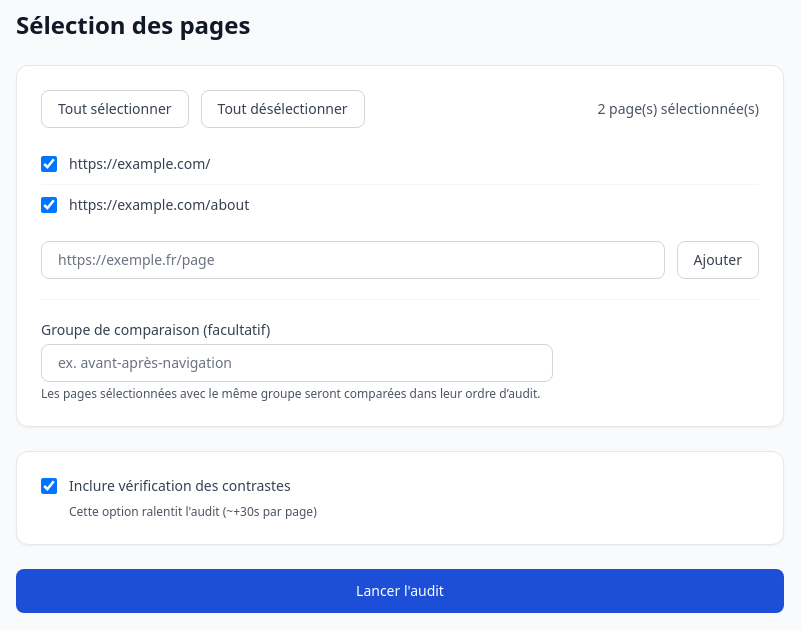
PageSelection › "Tout sélectionner" coche toutes les checkboxes URL
This screenshot has width=801, height=630.
Note: Deselect all first to ensure a clean state
Click the button "Tout désélectionner": {"x": 283, "y": 109} x1=201 y1=90 x2=365 y2=128
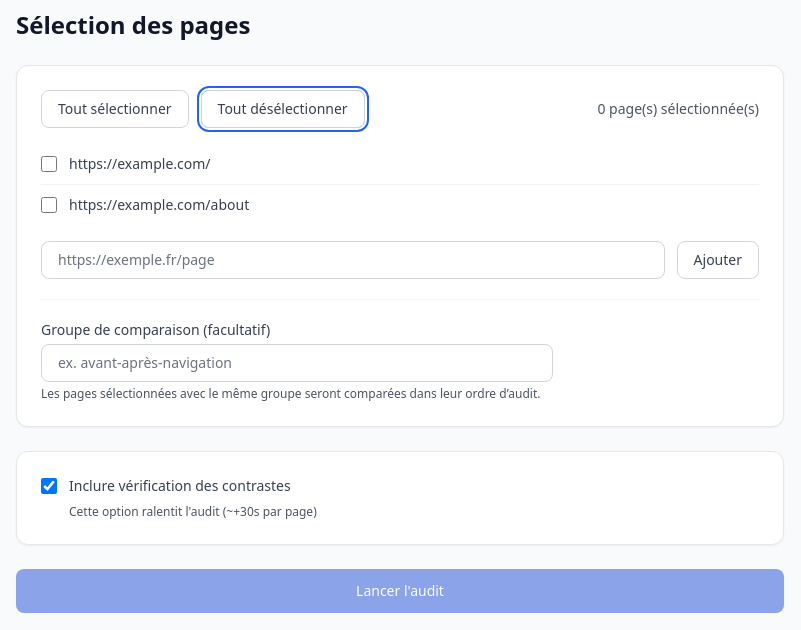
Result: the checkbox named "https://example.com/" is not checked at x1=41 y1=156 x2=57 y2=172
Result: the checkbox named "https://example.com/about" is not checked at x1=41 y1=197 x2=57 y2=213
Click the button "Tout sélectionner": {"x": 115, "y": 109} x1=41 y1=90 x2=189 y2=128
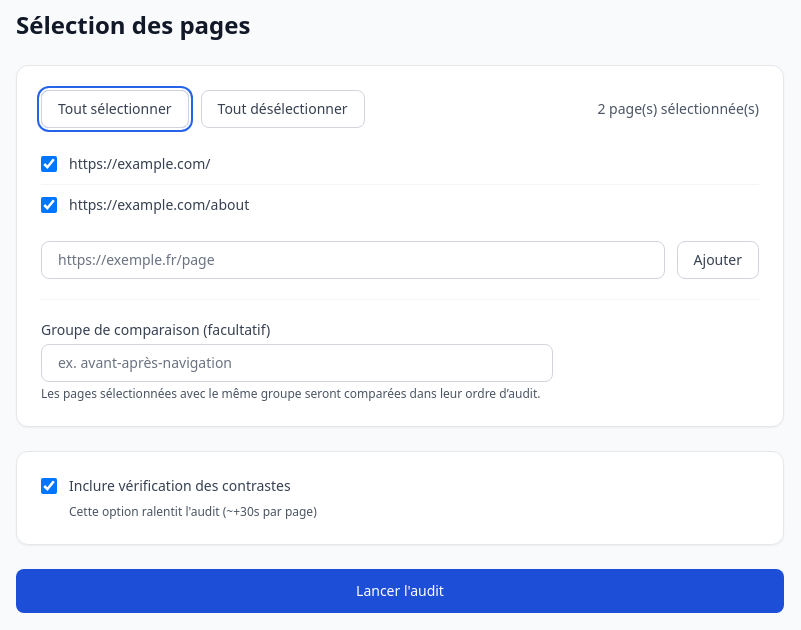
Result: the checkbox named "https://example.com/" is checked at x1=41 y1=156 x2=57 y2=172
Result: the checkbox named "https://example.com/about" is checked at x1=41 y1=197 x2=57 y2=213
